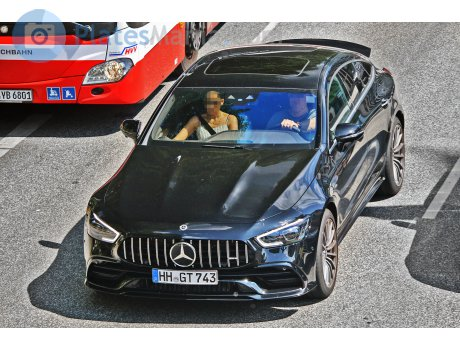License Plates: (159, 268, 218, 281)
